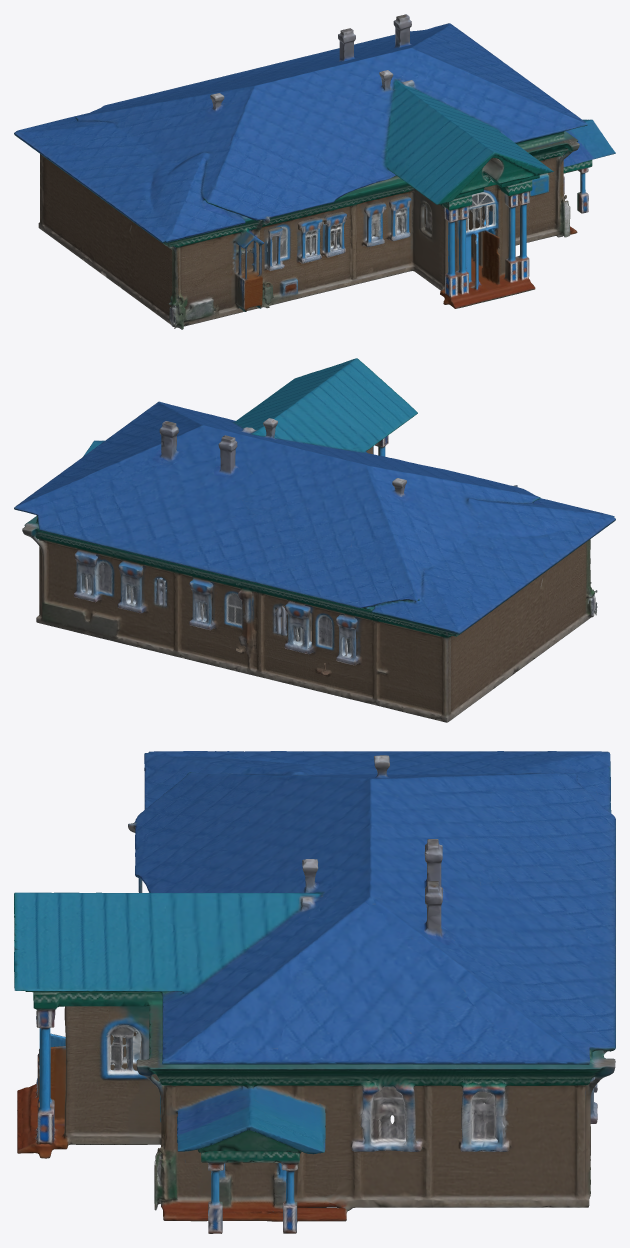
The model's file is Meshy_AI_Blue_Roof_Heritage_Ho_1014054135_texture.glb.
3 views of the same model, one above another, from view 1: azimuth 30°, elevation 25°; view 2: azimuth 150°, elevation 25°; view 3: azimuth 270°, elevation 25° (orthographic). The views are drawn at different scales.
Size of the model in its own units: 1.9 by 0.6909 by 1.38.
Materials: 1 (1 with a texture image).
